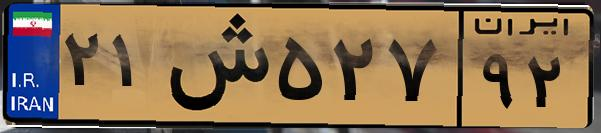1: (110, 28, 158, 98)
2: (330, 28, 385, 110), (57, 26, 110, 100), (525, 38, 570, 115)
5: (270, 28, 330, 110)
7: (385, 28, 445, 110)
9: (475, 38, 525, 113)
ش: (158, 12, 270, 120)
